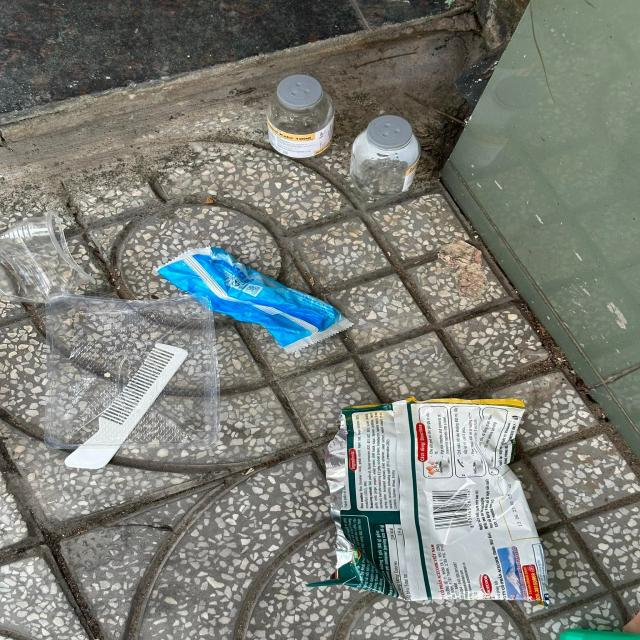bottle: (351, 115, 420, 203), (268, 74, 334, 158)
plastic glass: (0, 209, 91, 304)
plastic holder: (48, 295, 218, 446)
snack package: (305, 397, 550, 601), (156, 245, 354, 356)
